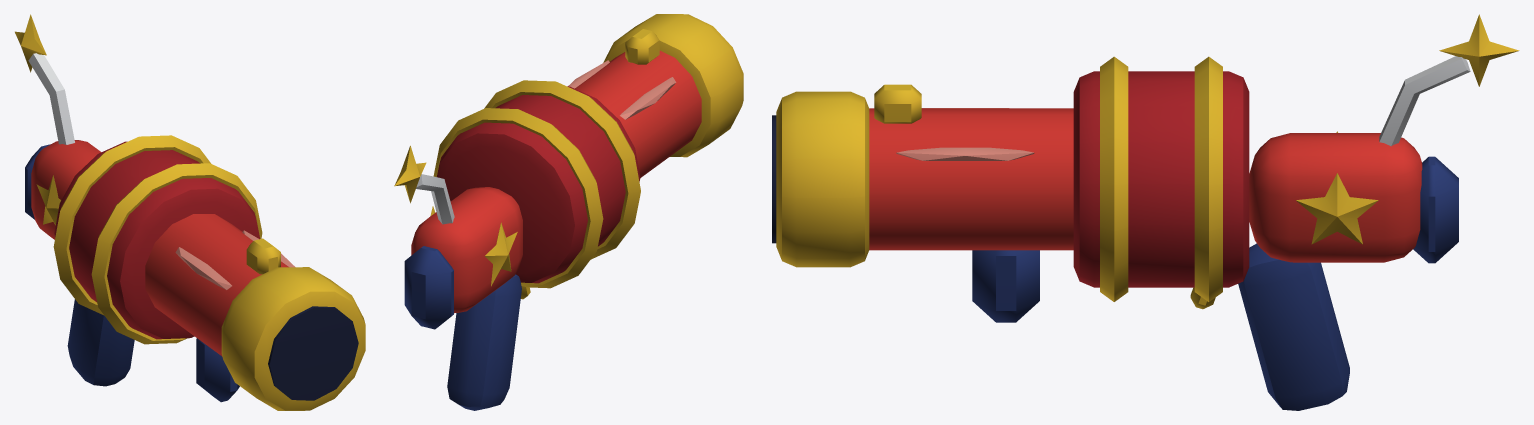
File: w_g_cracker.glb
3 views of the same model, side by side, from view 1: azimuth 30°, elevation 25°; view 2: azimuth 150°, elevation 25°; view 3: azimuth 270°, elevation 25° (orthographic). The views are drawn at different scales.
Parts seen in each view (by area): view 1: body; view 2: body; view 3: body.
Boxes of the visible parts, bbox=[...] form: body: bbox=[15, 14, 365, 410]; body: bbox=[394, 14, 743, 410]; body: bbox=[772, 14, 1519, 410].
Size of the model in its own units: 0.2912 by 0.5131 by 0.8848.
